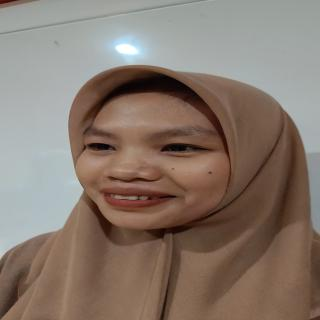Senang: (72, 86, 256, 239)
